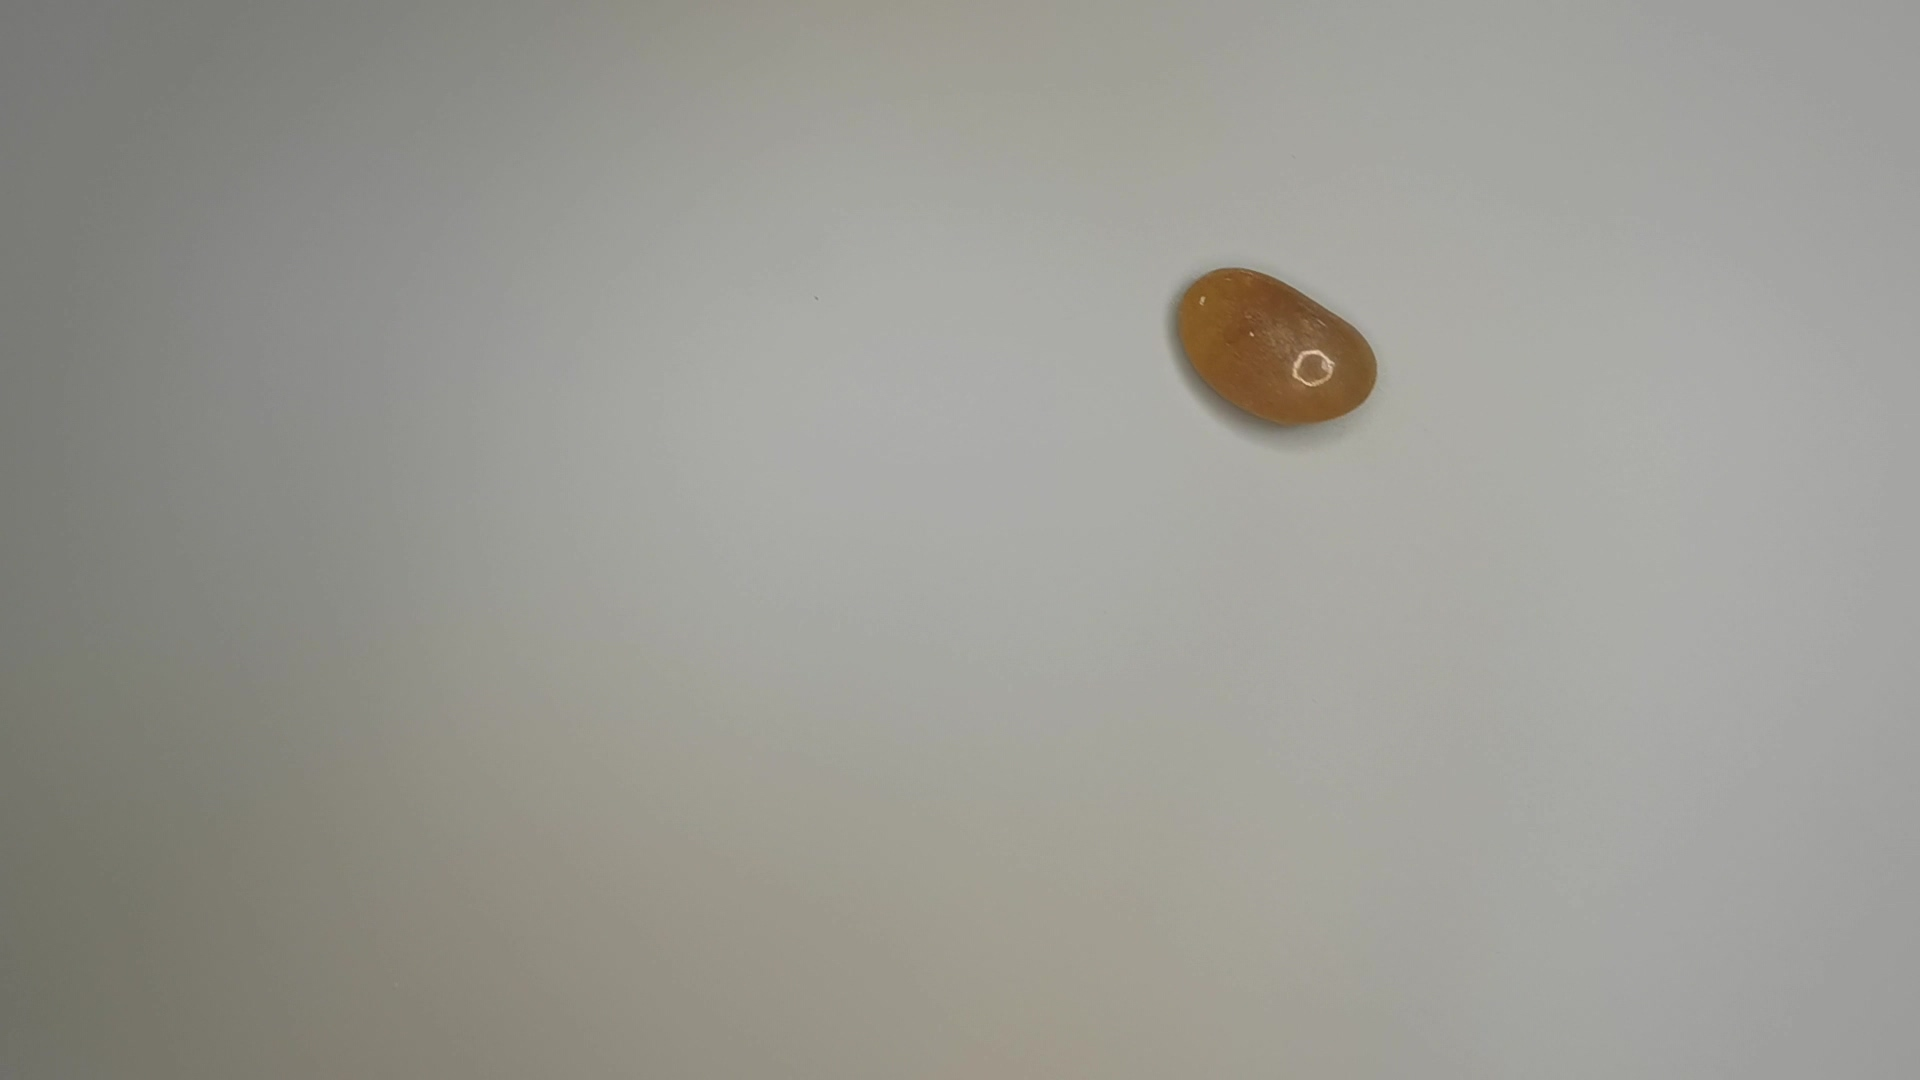ceramic: (1162, 266, 1382, 439)
